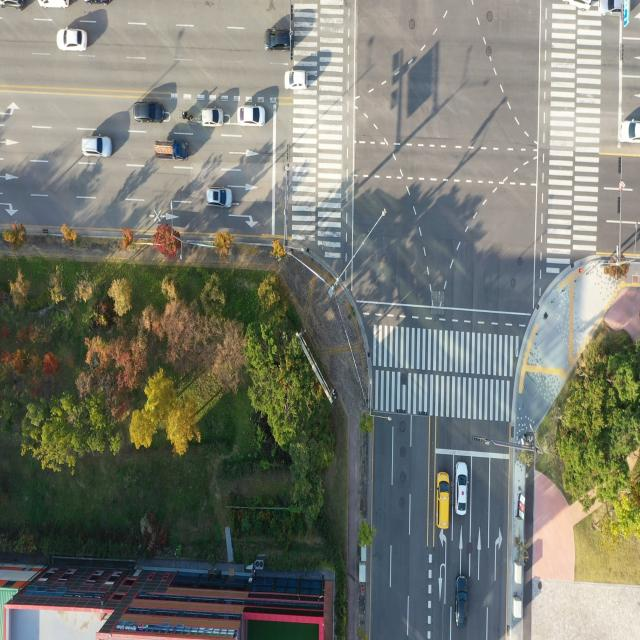car: (436, 470, 451, 532), (455, 576, 470, 630), (456, 463, 470, 518), (133, 101, 164, 125), (265, 26, 292, 52), (619, 115, 640, 147), (58, 29, 86, 52), (82, 136, 111, 158), (206, 186, 231, 208), (284, 68, 308, 90), (240, 106, 264, 126), (596, 0, 622, 18), (202, 107, 224, 128), (562, 0, 592, 13), (38, 0, 68, 11), (0, 0, 25, 13)
small_truck: (156, 139, 190, 160)
